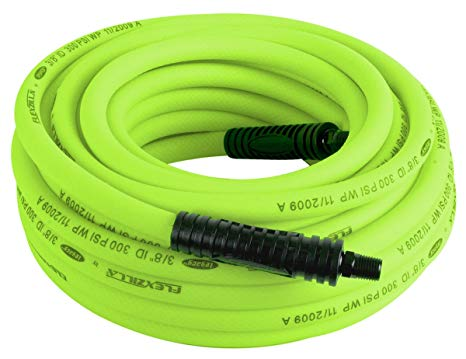Nonrec_Tangler: (17, 18, 439, 335)
